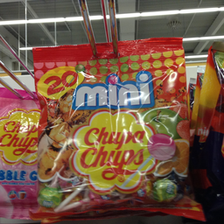candy: (30, 45, 194, 216), (1, 90, 48, 220)
